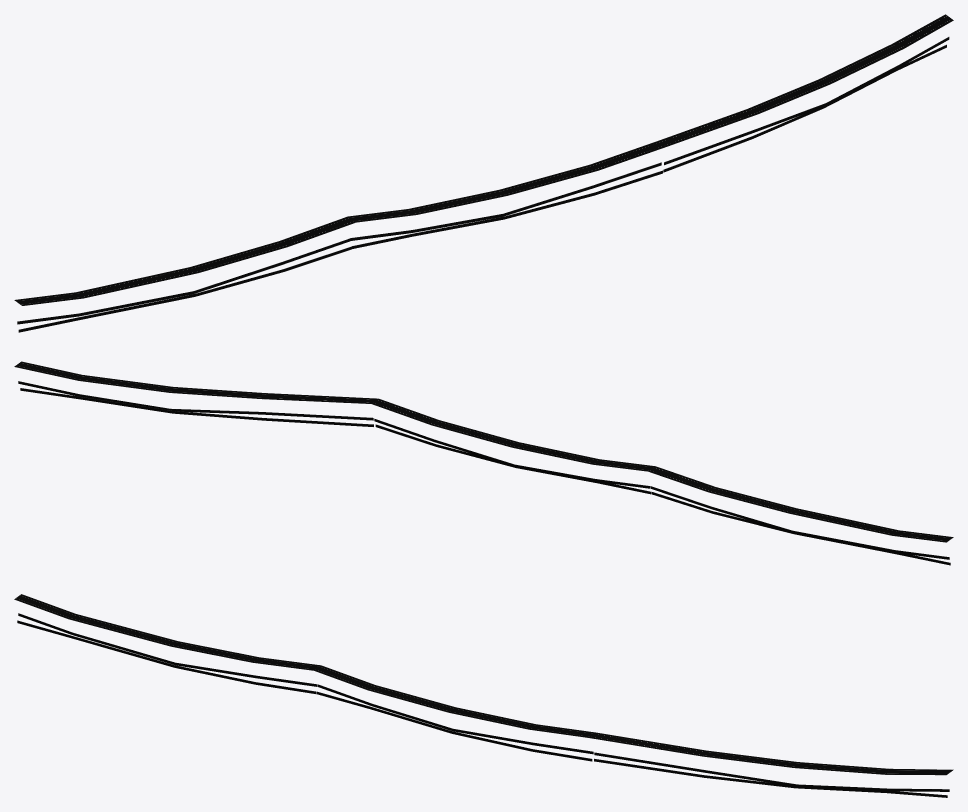
File: vegastwires04.obj
3 renders of one model, top to bottom at view 1: azimuth 30°, elevation 25°; view 2: azimuth 150°, elevation 25°; view 3: azimuth 330°, elevation 25°, orthographic. The views are drawn at different scales.
Visible parts, largest first — view 1: vegastwires04; view 2: vegastwires04; view 3: vegastwires04.
Part boxes in pixels (<box>): vegastwires04: <box>14,14,953,332</box>; vegastwires04: <box>14,361,953,565</box>; vegastwires04: <box>14,594,953,797</box>.
Size of the model in its own units: 177 by 6.29 by 21.14.
1 material, 1 textured.
